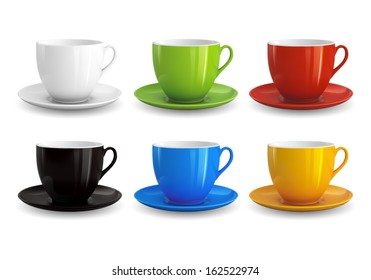cup: (17, 35, 128, 112), (249, 37, 361, 111), (17, 138, 123, 213), (133, 37, 240, 111), (134, 139, 239, 213), (250, 141, 356, 213)
